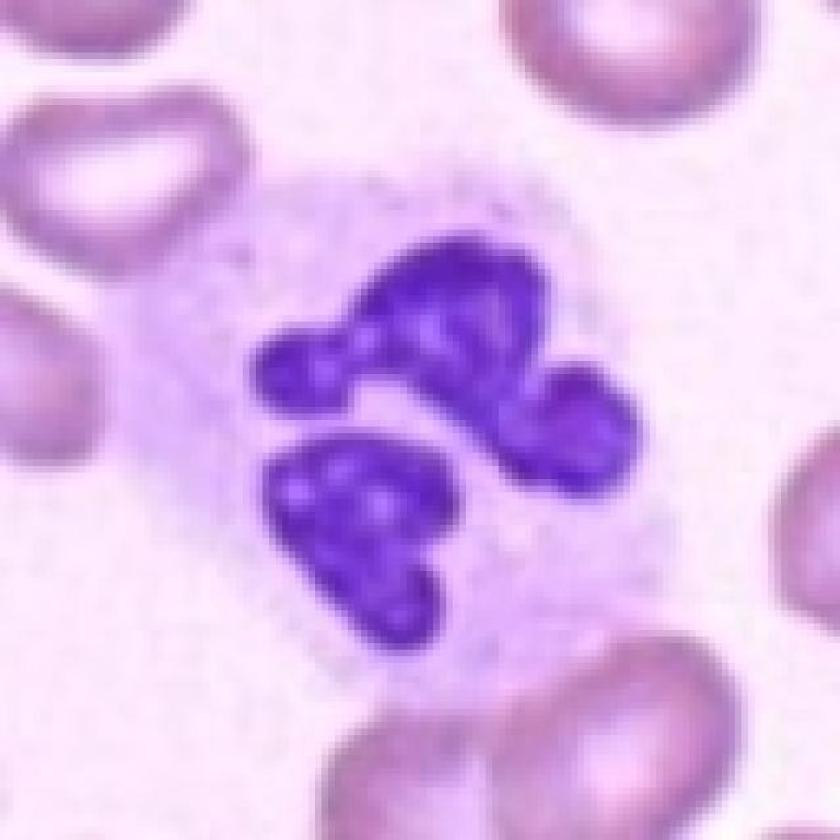neutrophil: (100, 151, 679, 716)
